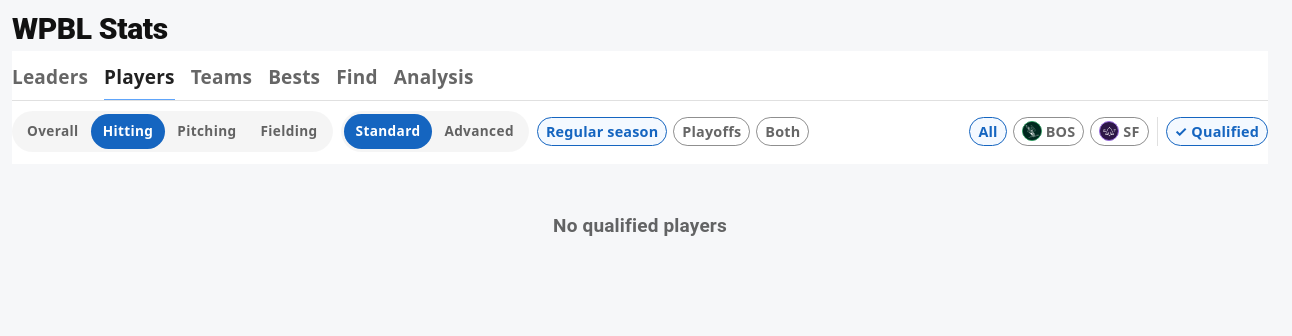
it: the teams board under the season scope › counts only regular-season games in G, and only their runners in LOB
The image size is (1292, 336).
Click the button "Teams". click: point(221, 82)
box: [191,62,252,101]
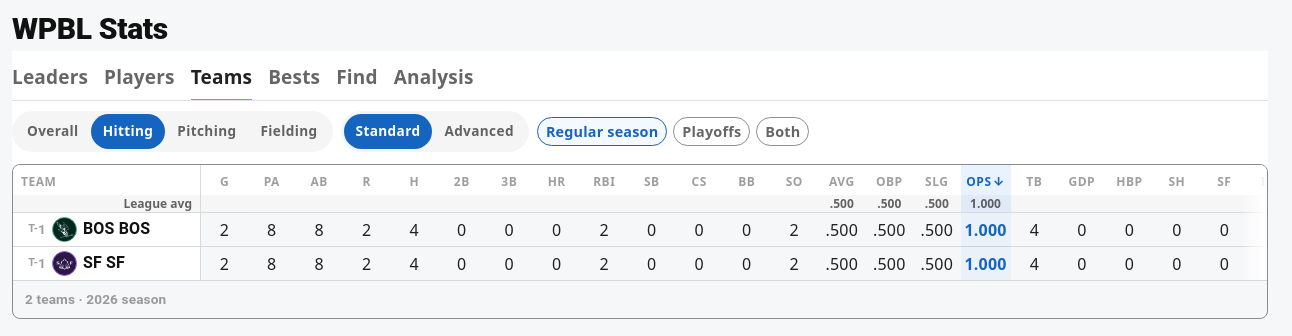
Expected: the table is shown, [13,165,1267,280]
